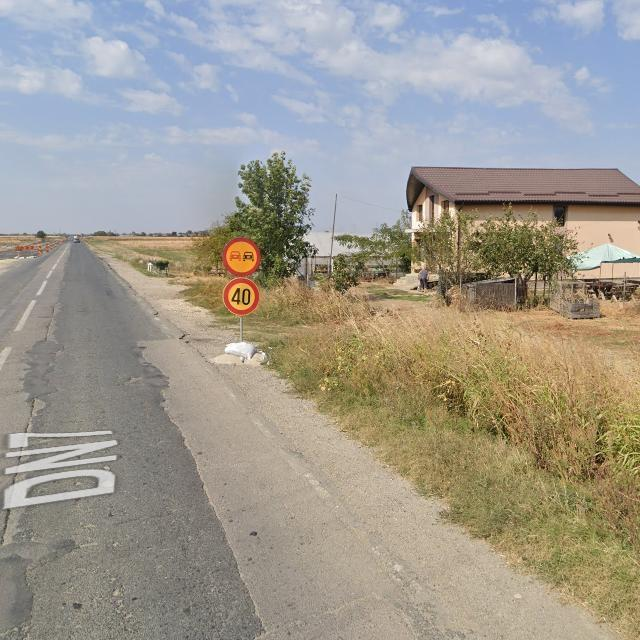forb_overtake: (222, 237, 261, 277)
forb_speed_over_40: (223, 278, 260, 316)
